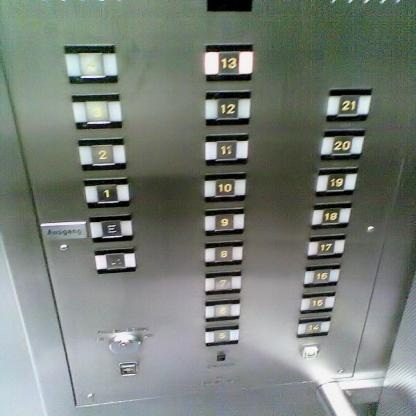1: (80, 175, 132, 209)
10: (201, 171, 248, 204)
11: (202, 130, 250, 166)
12: (201, 89, 252, 126)
13: (199, 41, 257, 83)
14: (295, 315, 332, 339)
15: (298, 290, 336, 314)
16: (301, 263, 342, 288)
17: (305, 232, 347, 260)
18: (309, 199, 353, 230)
19: (312, 164, 358, 197)
2: (75, 135, 129, 172)
20: (318, 126, 366, 162)
21: (322, 85, 373, 122)
3: (67, 91, 124, 131)
4: (59, 43, 120, 84)
5: (202, 324, 242, 348)
6: (202, 298, 240, 322)
7: (203, 268, 243, 296)
8: (202, 239, 244, 266)
9: (202, 206, 245, 237)
E: (86, 212, 134, 245)
U1: (92, 247, 137, 274)
alarm: (296, 341, 321, 361)
keyhole: (102, 330, 144, 356)
open: (115, 358, 140, 378)
